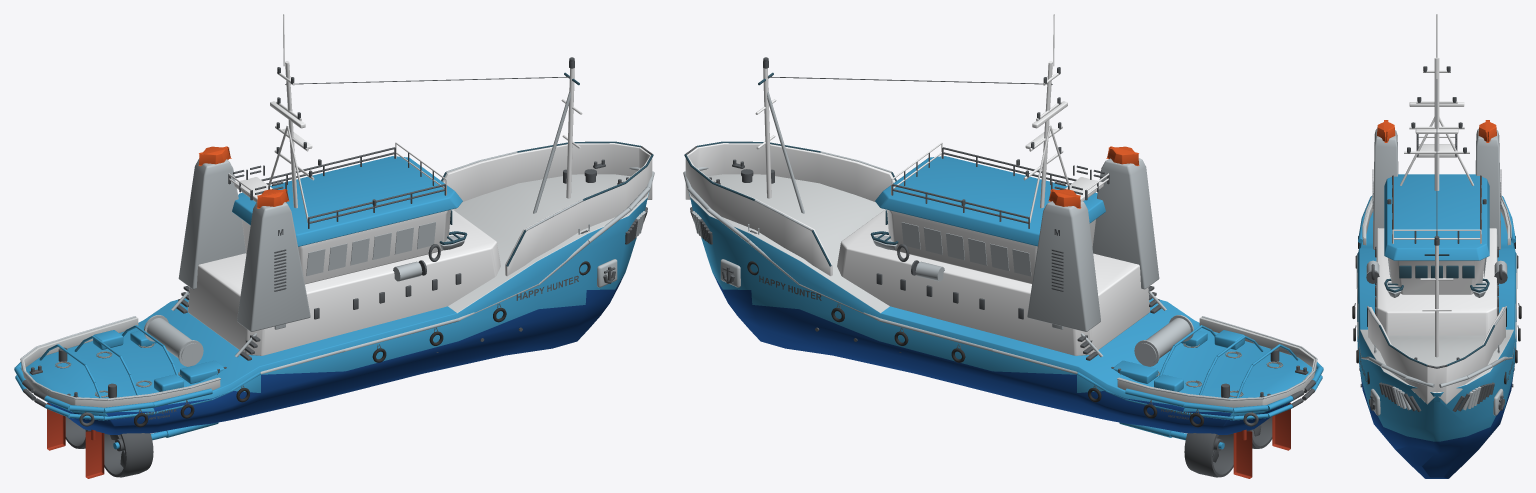
The model's file is happy-hunter-blue.glb.
The picture shows the model from 3 angles, left to right: view 1: azimuth 30°, elevation 25°; view 2: azimuth 150°, elevation 25°; view 3: azimuth 270°, elevation 25°; orthographic projection. The views are drawn at different scales.
Visible parts, largest first — view 1: STL_HUNTER; view 2: STL_HUNTER; view 3: STL_HUNTER.
Boxes of the visible parts, x1=… form: STL_HUNTER: x1=14, y1=14, x2=654, y2=478; STL_HUNTER: x1=683, y1=14, x2=1323, y2=478; STL_HUNTER: x1=1352, y1=14, x2=1521, y2=478.
Bounding box in the file's own units: 53.8 × 33.27 × 14.55.
